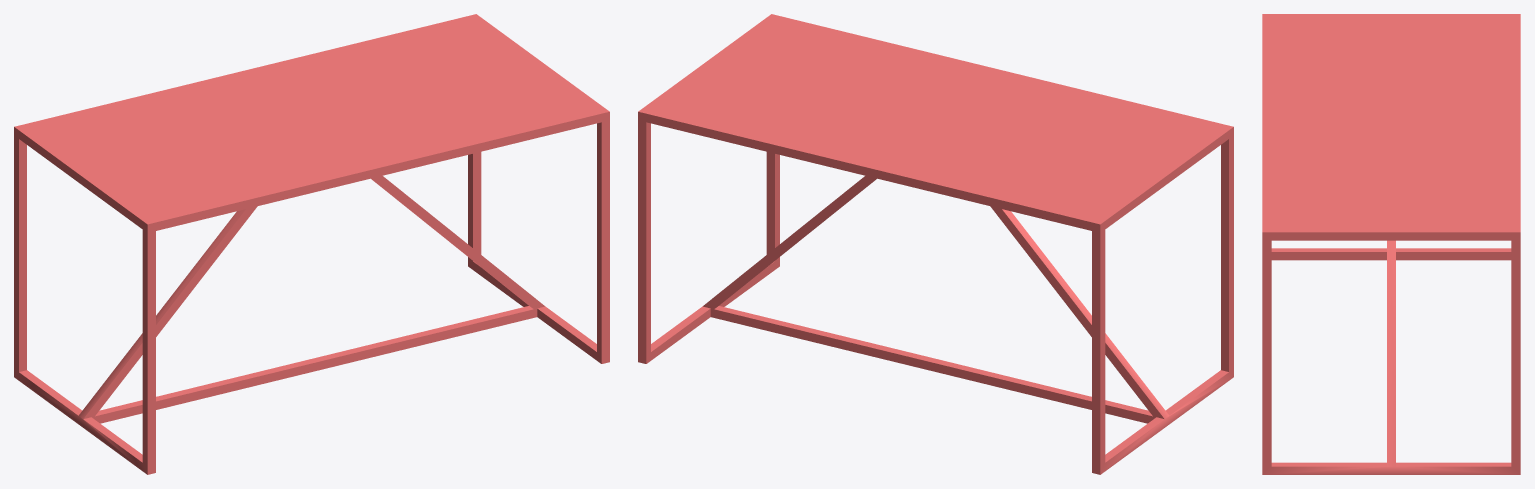
The model's file is table-red.glb.
The picture shows the model from 3 angles, left to right: view 1: azimuth 30°, elevation 25°; view 2: azimuth 150°, elevation 25°; view 3: azimuth 270°, elevation 25°; orthographic projection. The views are drawn at different scales.
Parts seen in each view (by area): view 1: t_rect_c; view 2: t_rect_c; view 3: t_rect_c.
Boxes of the visible parts, x1,y1,x2,y2 form: t_rect_c: [14, 14, 609, 474]; t_rect_c: [638, 14, 1233, 474]; t_rect_c: [1262, 14, 1520, 474].
Size of the model in its own units: 1.42 by 0.7366 by 0.7112.
